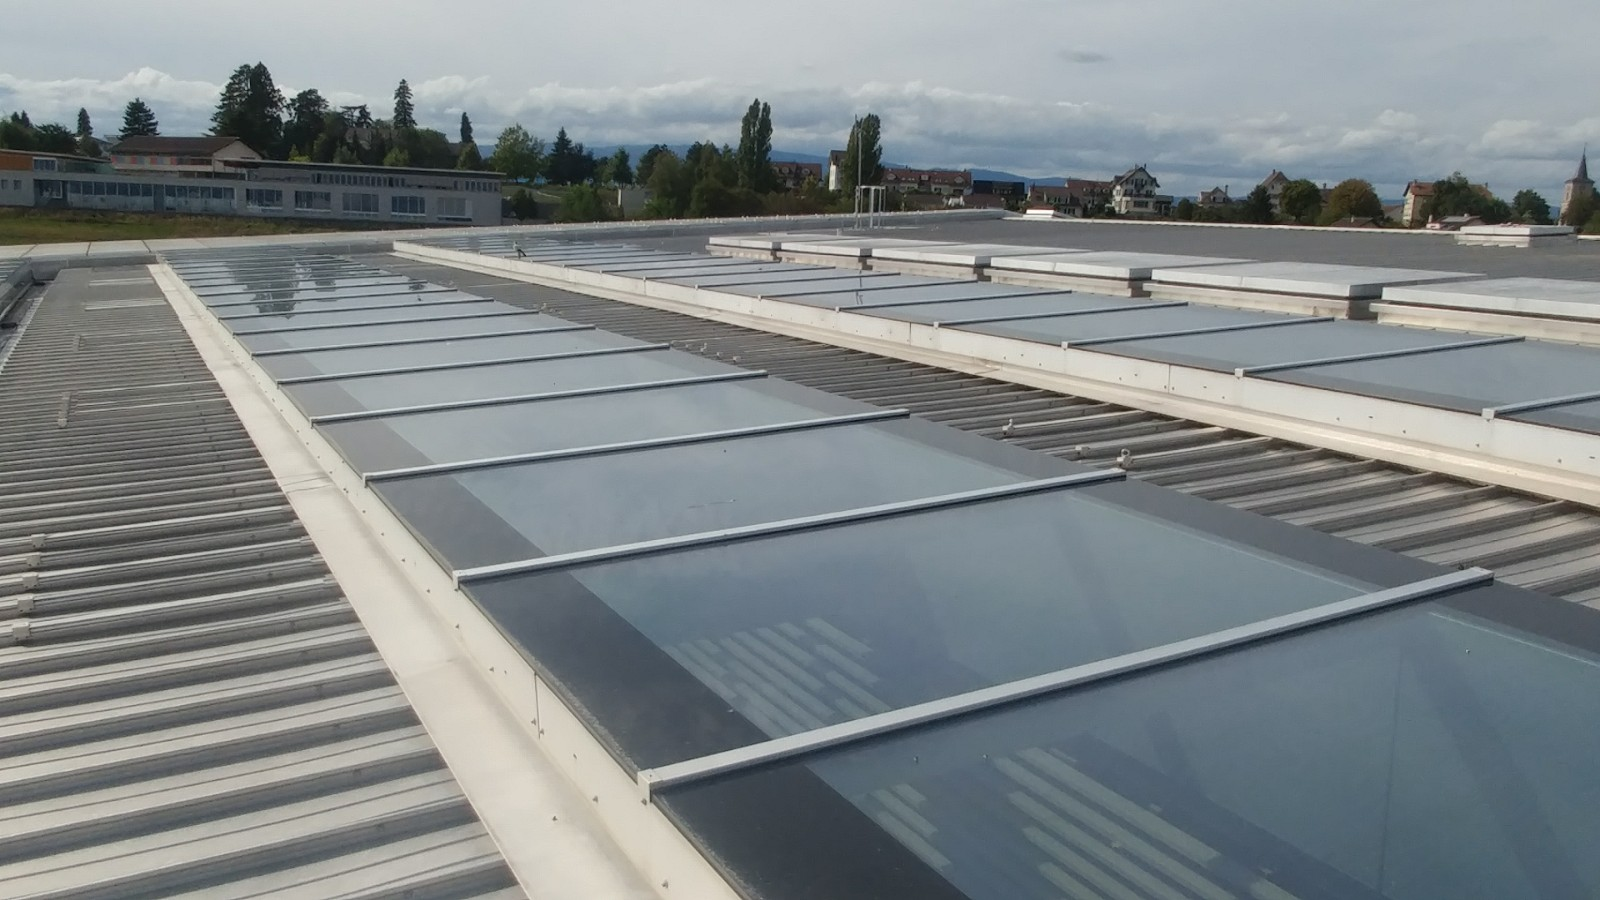Pigeon: (508, 237, 527, 260)
